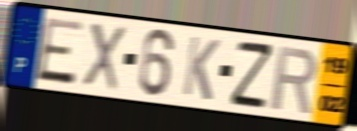6: (137, 28, 176, 99)
E: (33, 15, 86, 88)
K: (180, 33, 222, 104)
R: (269, 43, 320, 116)
X: (80, 20, 127, 93)
Z: (228, 39, 275, 110)
